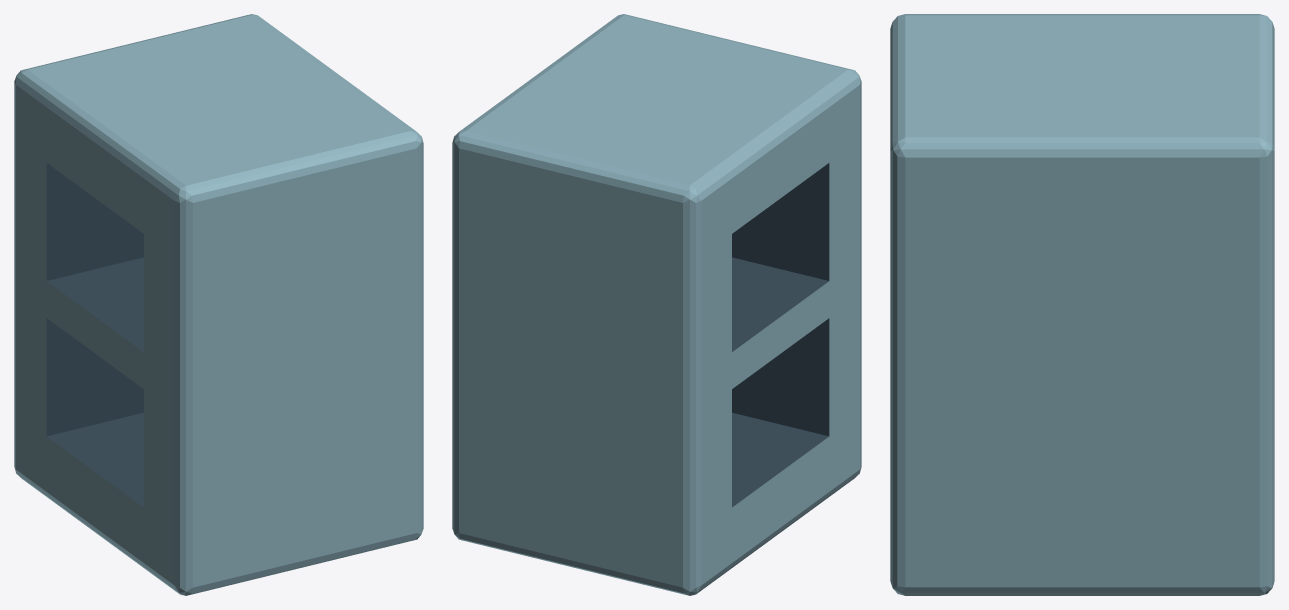
3 renders of one model, left to right at view 1: azimuth 30°, elevation 25°; view 2: azimuth 150°, elevation 25°; view 3: azimuth 270°, elevation 25°, orthographic. The views are drawn at different scales.
Parts seen in each view (by area): view 1: geometry_0; view 2: geometry_0; view 3: geometry_0.
Boxes of the visible parts, bbox=[...] form: geometry_0: bbox=[14, 14, 423, 595]; geometry_0: bbox=[452, 14, 861, 595]; geometry_0: bbox=[890, 14, 1274, 595].
Size of the model in its own units: 0.021 by 0.0332 by 0.0253.
Materials: 1 (1 with a texture image).
